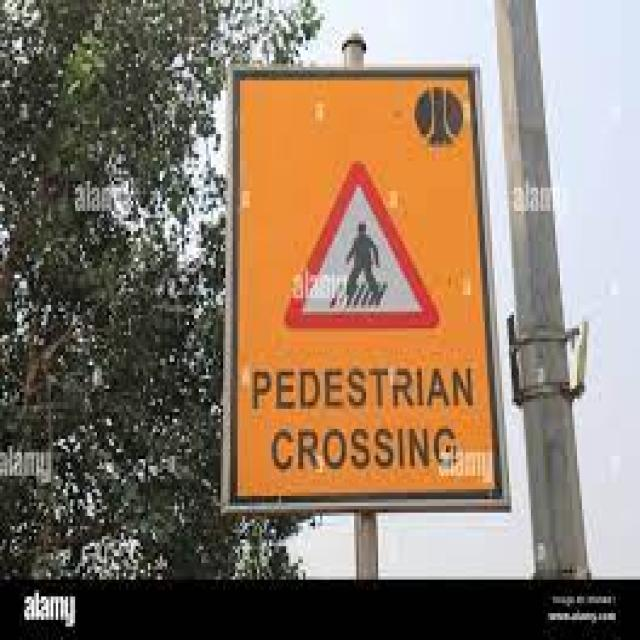Pedestrian crosswalk: (276, 154, 445, 334)
